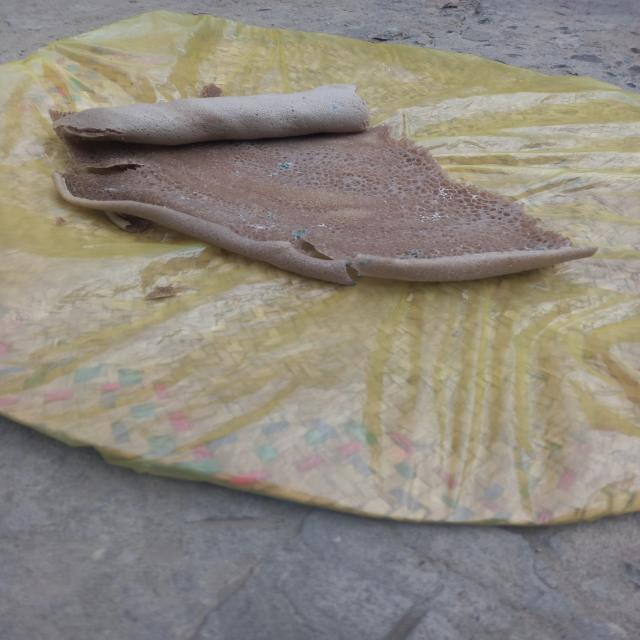injera_mold: (418, 210, 446, 223), (273, 159, 294, 173), (435, 184, 453, 199), (289, 228, 309, 240), (264, 211, 278, 221), (409, 250, 421, 261), (250, 223, 266, 230), (102, 186, 120, 192), (354, 259, 368, 266), (434, 247, 442, 257), (469, 192, 482, 198), (318, 223, 328, 230), (232, 170, 242, 177), (342, 260, 352, 266), (270, 172, 279, 178), (345, 280, 355, 285), (269, 222, 277, 228), (331, 105, 338, 111), (240, 216, 247, 222), (458, 243, 464, 250), (539, 246, 547, 251), (352, 250, 361, 254), (324, 263, 331, 268), (302, 214, 310, 218), (178, 197, 188, 200), (329, 192, 334, 198), (383, 200, 388, 205), (162, 204, 168, 208), (120, 136, 126, 140), (526, 232, 532, 236), (398, 253, 406, 256), (108, 158, 120, 160), (421, 207, 428, 210), (329, 146, 334, 150), (383, 230, 387, 235), (432, 240, 437, 244), (525, 245, 529, 250), (204, 183, 207, 189), (191, 191, 197, 194), (508, 265, 514, 268), (272, 142, 276, 146), (401, 206, 405, 210), (120, 178, 127, 180), (262, 145, 266, 148), (329, 227, 333, 230), (259, 209, 263, 212), (298, 171, 304, 173), (271, 153, 274, 156), (215, 206, 219, 208), (420, 230, 422, 234), (422, 200, 424, 204), (435, 202, 439, 204), (316, 182, 320, 184)
